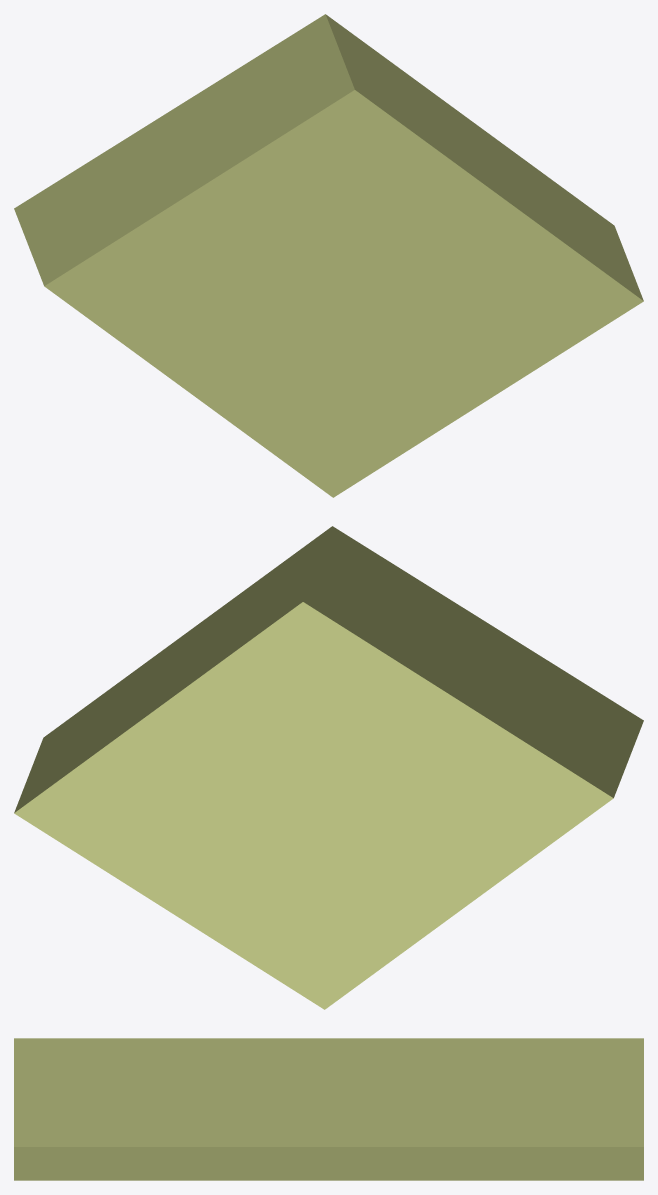
3 renders of one model, top to bottom at view 1: azimuth 30°, elevation 25°; view 2: azimuth 150°, elevation 25°; view 3: azimuth 270°, elevation 25°, orthographic. The views are drawn at different scales.
Visible parts, largest first — view 1: 0_1_2_3_0_0_3_0_0_3_0; view 2: 0_1_2_3_0_0_3_0_0_3_0; view 3: 0_1_2_3_0_0_3_0_0_3_0.
Part boxes in pixels (x1,y1,x2,y2): 0_1_2_3_0_0_3_0_0_3_0: (14, 14, 643, 497); 0_1_2_3_0_0_3_0_0_3_0: (14, 526, 643, 1009); 0_1_2_3_0_0_3_0_0_3_0: (14, 1038, 643, 1180).
Size of the model in its own units: 6.13 by 3.5 by 9.
